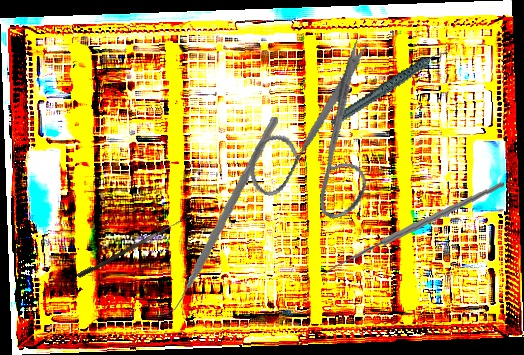Chopper: (142, 116, 292, 316)
Handpiece: (320, 49, 459, 126)
Hook Surgical: (322, 168, 505, 298), (76, 210, 191, 281)
Iris Scissors: (220, 33, 415, 238)
